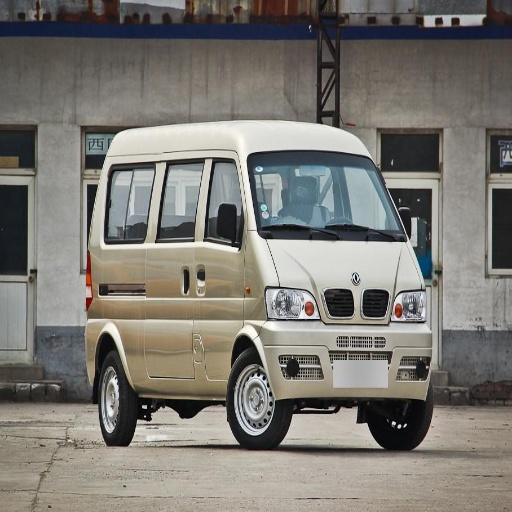front_bumper: (265, 314, 432, 395), (318, 286, 381, 315)
front_right_door: (194, 155, 248, 310)
front_right_light: (267, 288, 315, 317)
hood: (270, 240, 422, 292)
trunk: (94, 247, 237, 387), (290, 296, 412, 360)
